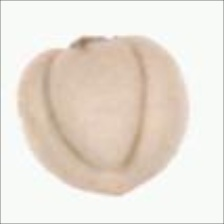L5: (41, 40, 148, 169), (79, 170, 157, 199), (67, 34, 116, 50)
L6: (14, 33, 191, 199)
